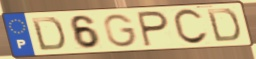6: (68, 14, 103, 51)
C: (172, 7, 211, 46)
D: (29, 16, 67, 52), (204, 7, 242, 43)
G: (102, 13, 139, 48)
P: (136, 10, 171, 48)
